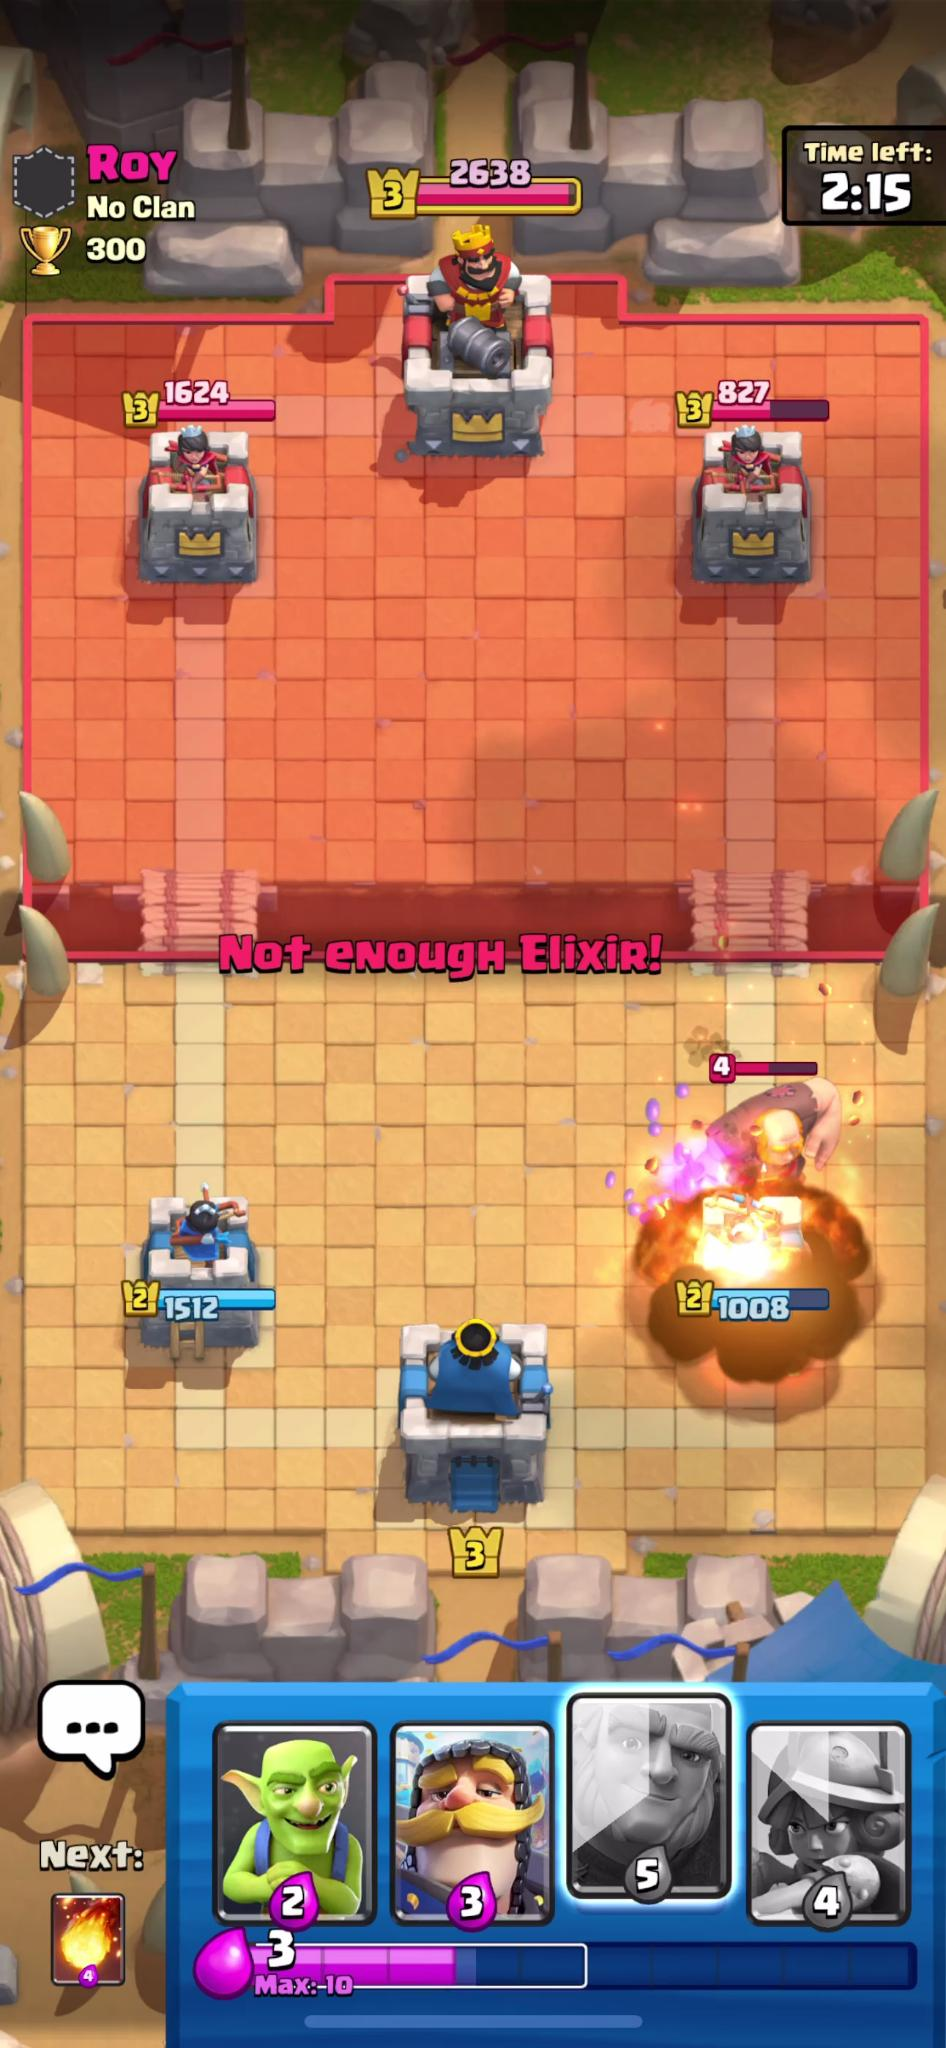geant: (713, 1076, 849, 1190)
